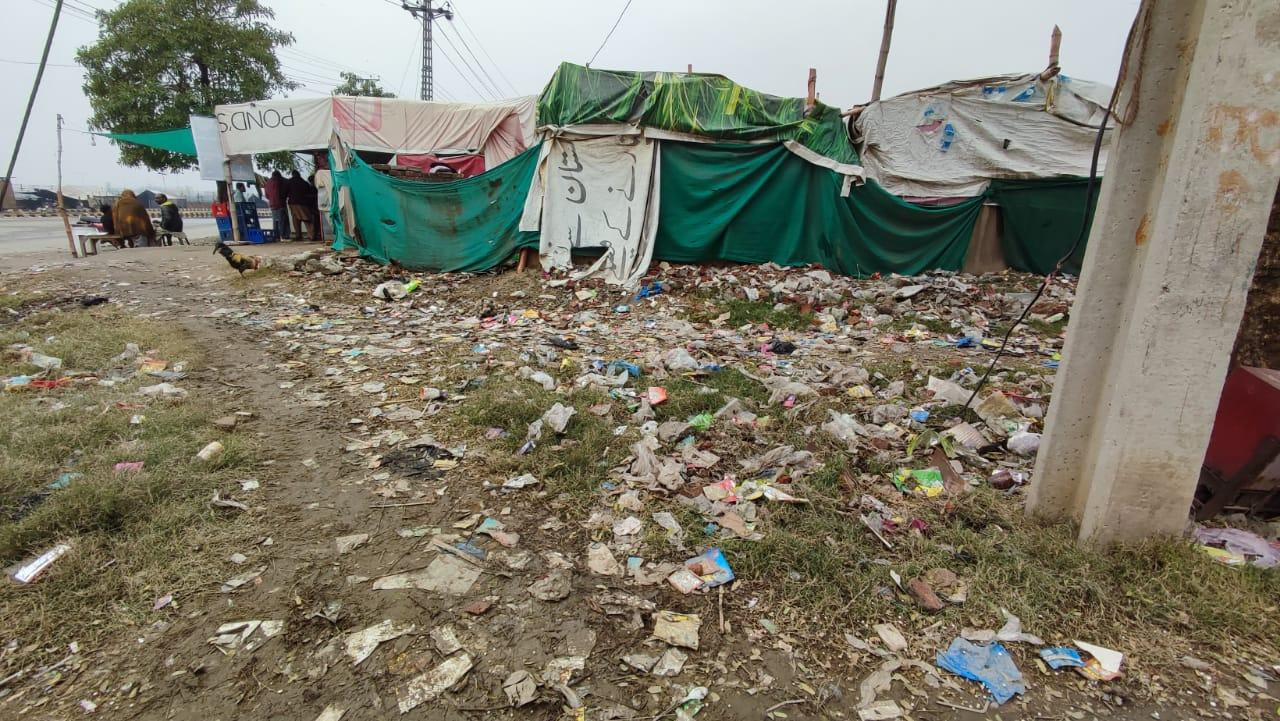garbage: (284, 269, 1032, 701)
